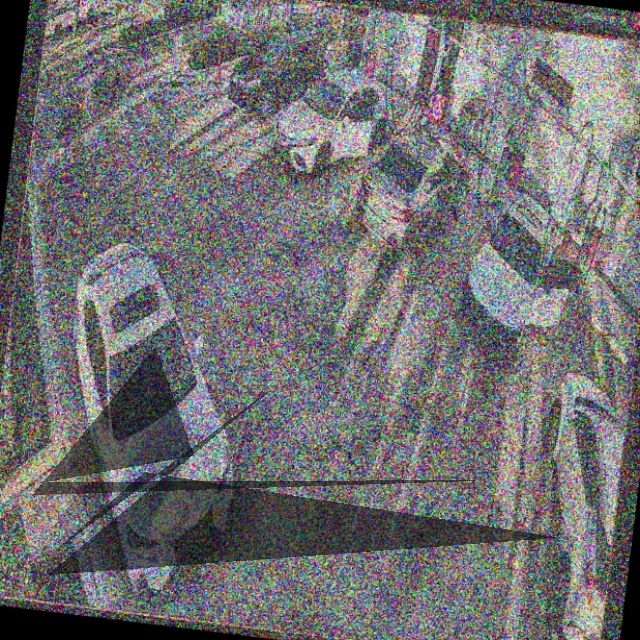Car: (42, 239, 265, 605), (455, 190, 582, 365), (349, 120, 474, 256), (274, 66, 397, 179)
